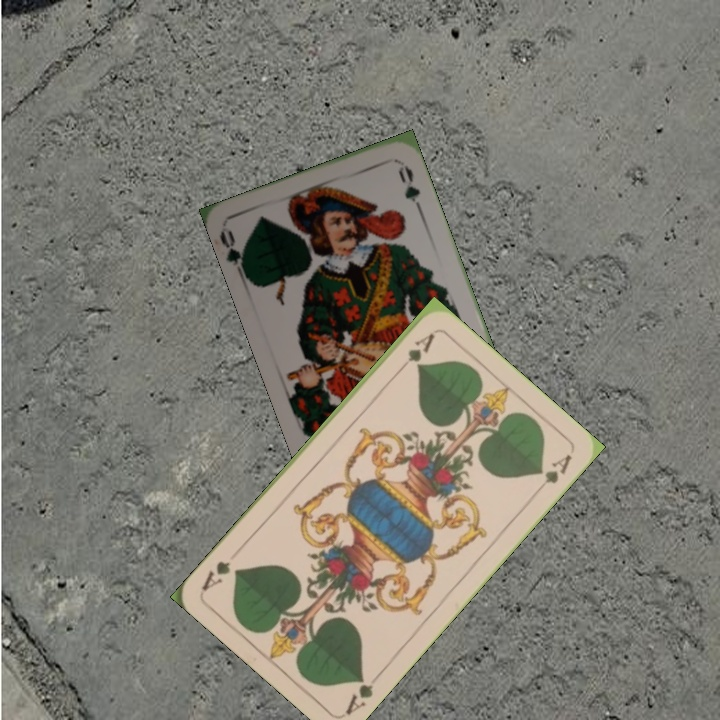GA: (340, 668, 384, 718), (393, 329, 437, 377)
GO: (216, 226, 254, 283)
